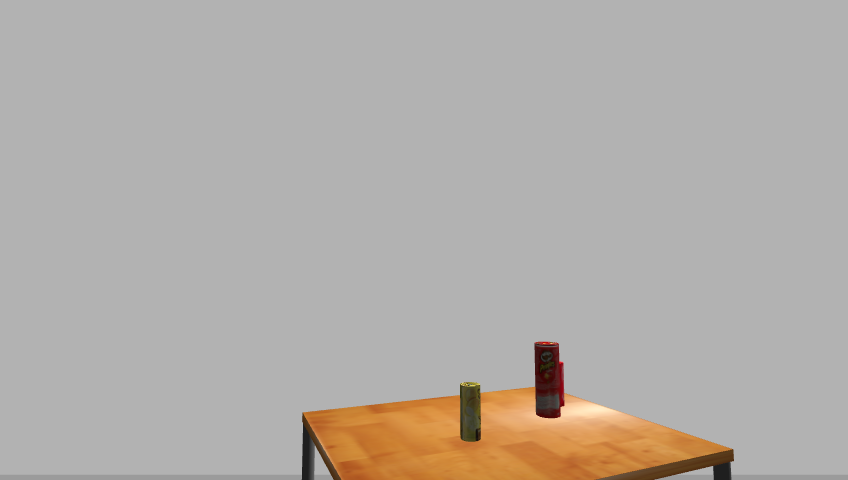biscuits pack: (458, 381, 482, 443)
coke can: (554, 362, 564, 408)
dinner table: (290, 386, 742, 480)
pringles can: (532, 340, 563, 420)
